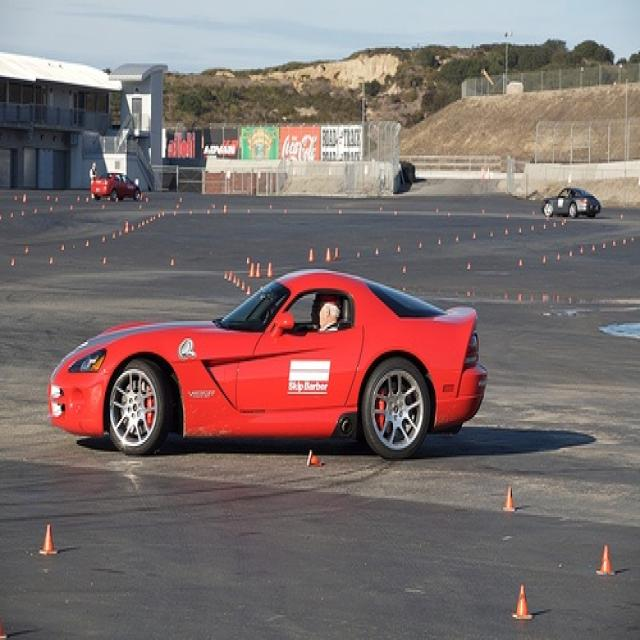car: (46, 265, 486, 461), (539, 185, 603, 221), (91, 173, 142, 200)
